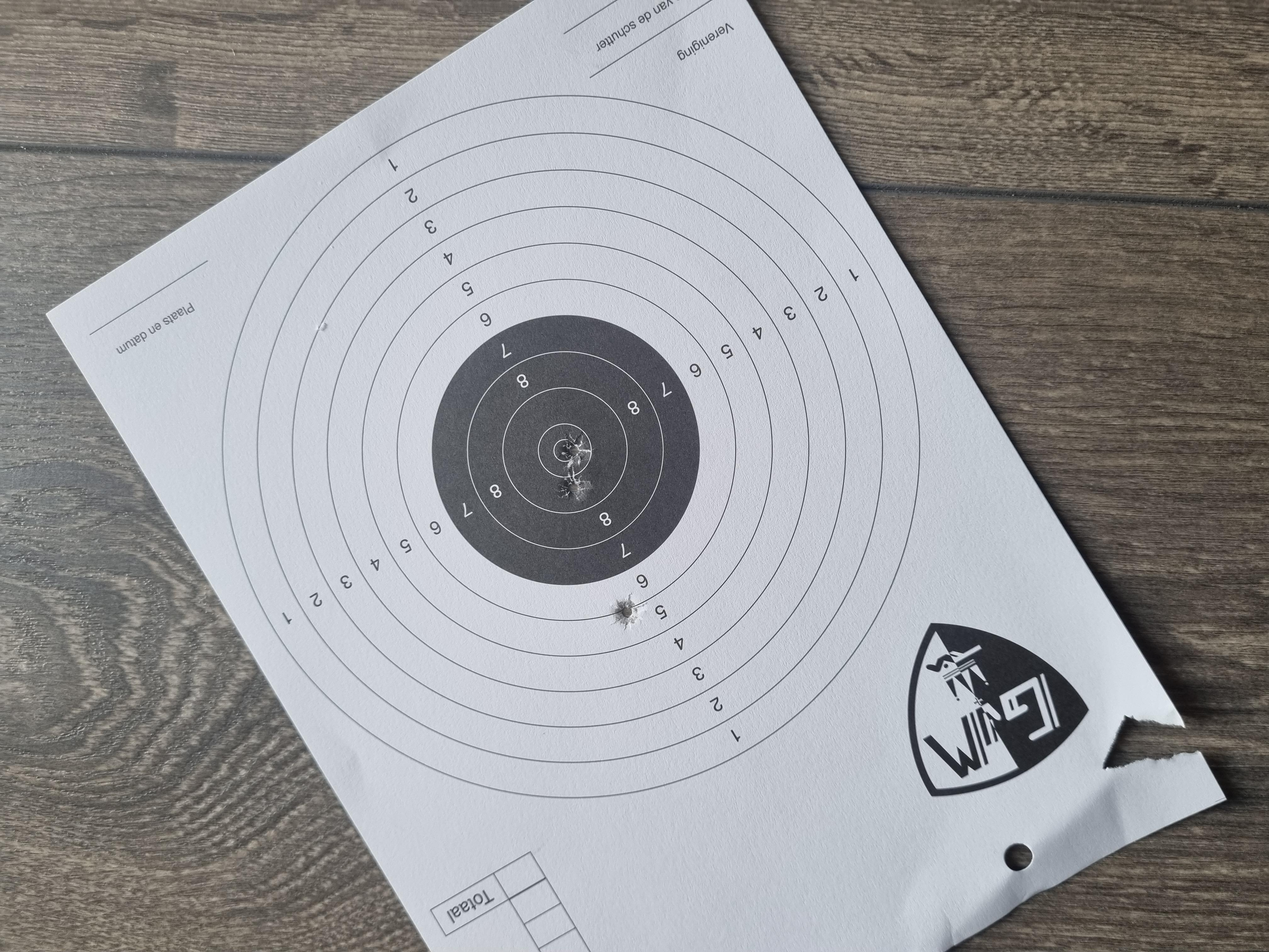hole: (639, 419, 692, 446), (427, 457, 470, 482), (597, 419, 637, 443)
